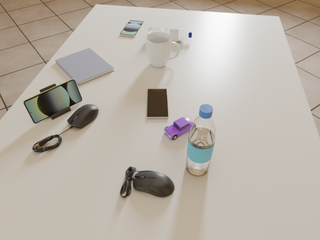book: (55, 48, 114, 86)
bottle: (186, 104, 216, 175), (148, 28, 192, 41)
cup: (146, 31, 180, 67)
mouse: (120, 167, 174, 198), (67, 104, 99, 129)
phone: (23, 79, 82, 123), (147, 89, 169, 118), (120, 20, 144, 37)
toy_car: (164, 117, 193, 140)
